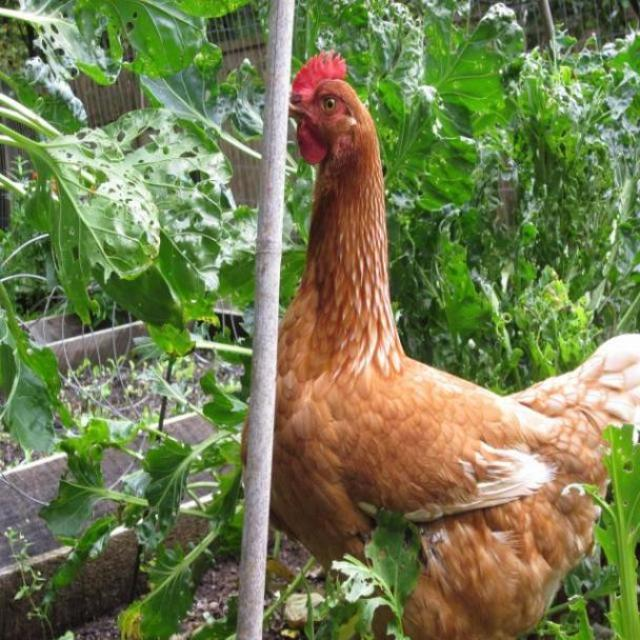Chicken: (277, 47, 635, 637)
